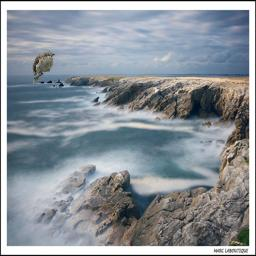Cuckoo: (32, 51, 55, 83)
